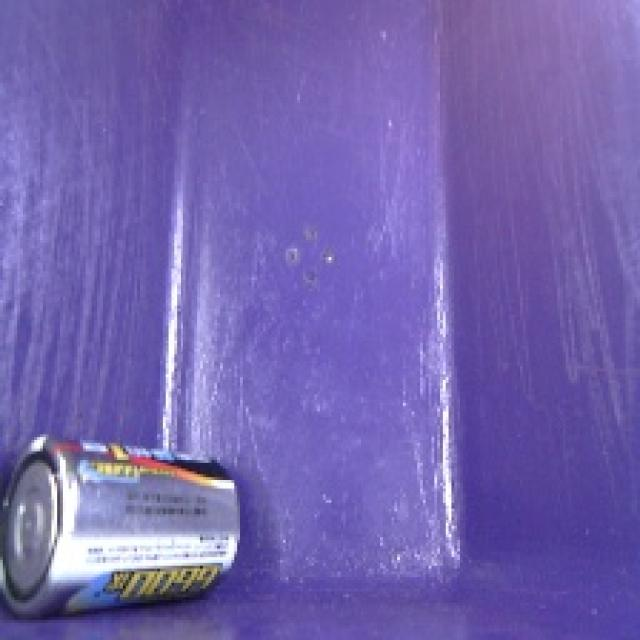battery: (0, 423, 257, 626)
